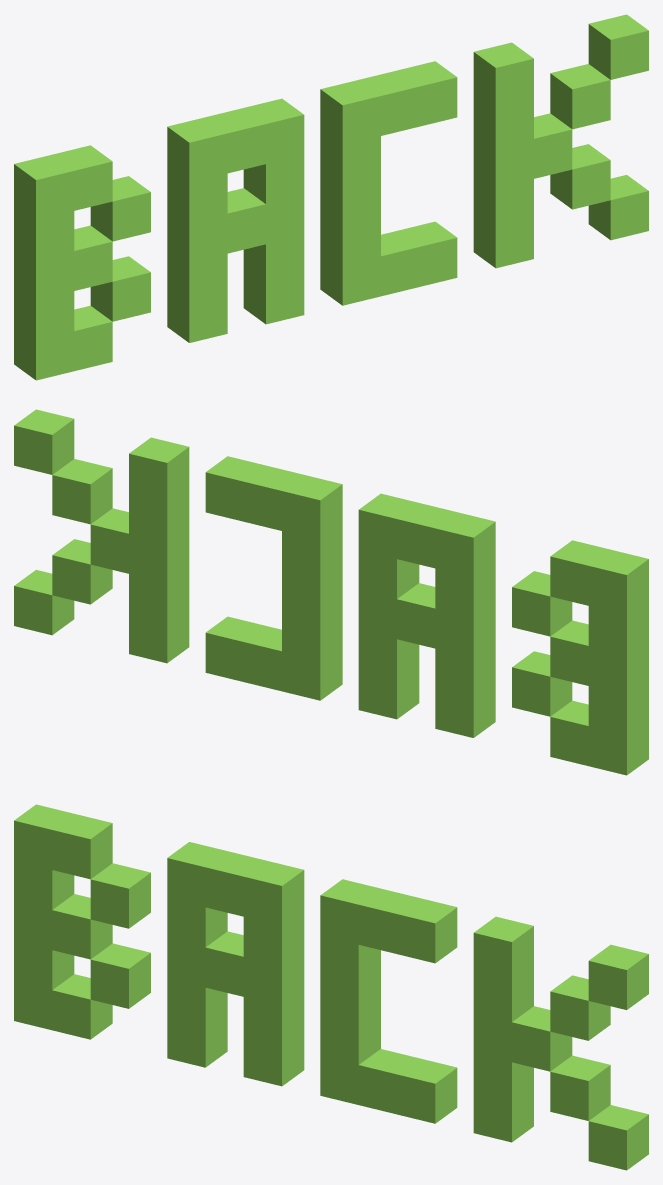
Rendered from BackButton.obj.
The picture shows the model from 3 angles, top to bottom: view 1: azimuth 30°, elevation 25°; view 2: azimuth 150°, elevation 25°; view 3: azimuth 330°, elevation 25°; orthographic projection.
Parts seen in each view (by area): view 1: BackButton; view 2: BackButton; view 3: BackButton.
Boxes of the visible parts, x1,y1,x2,y2 form: BackButton: (14,14,648,380); BackButton: (14,409,648,775); BackButton: (14,804,648,1170).
Bounding box in the file's own units: 16 × 5 × 1.
1 material, 1 textured.
